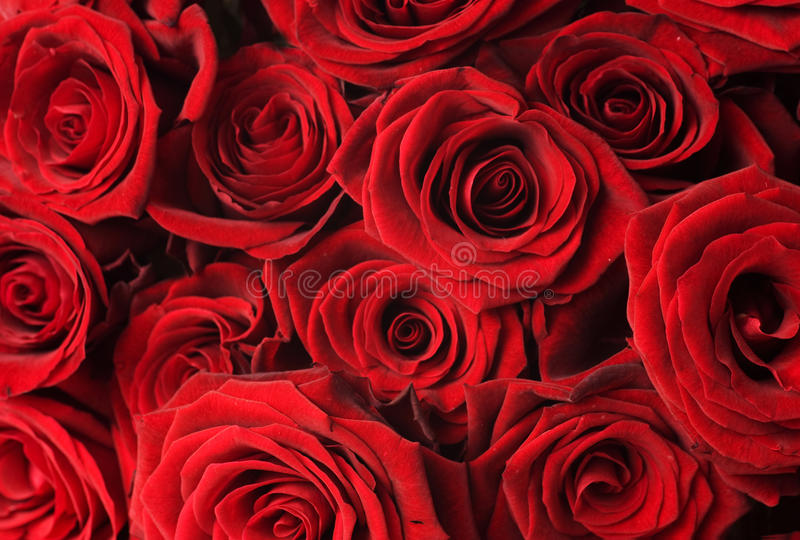RedRose: (362, 80, 614, 291), (160, 360, 426, 540), (0, 0, 169, 231), (660, 180, 791, 433), (313, 262, 525, 406), (536, 397, 726, 532), (532, 33, 732, 159), (272, 0, 497, 110), (123, 258, 261, 405), (0, 210, 100, 395), (207, 66, 328, 207), (9, 412, 139, 540)
